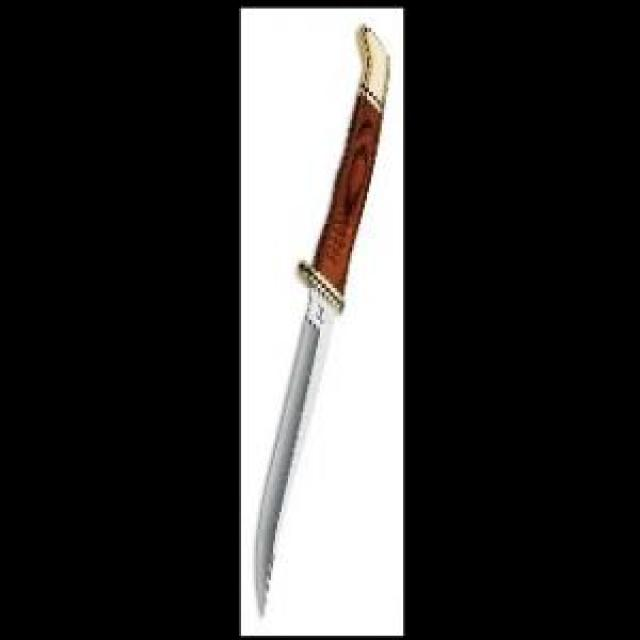knife: (246, 30, 376, 617), (262, 625, 264, 627)
